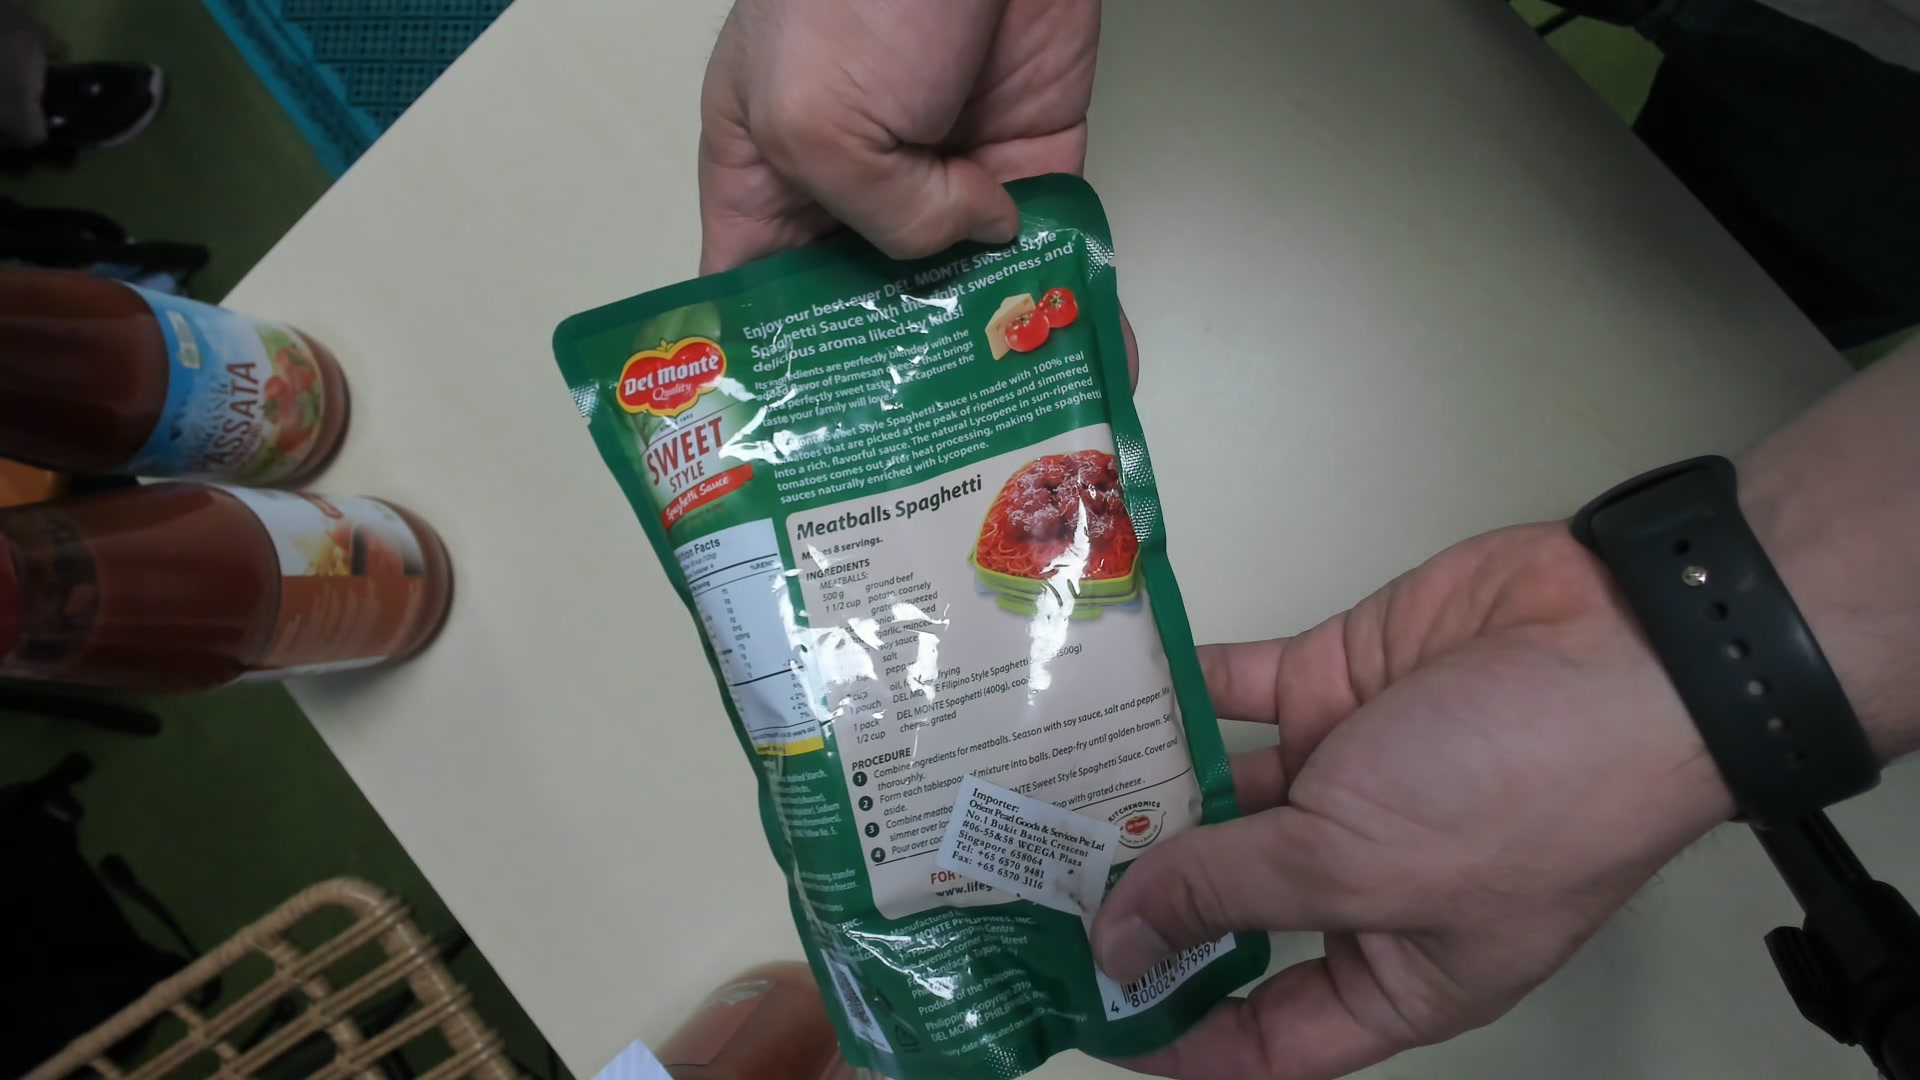PastaSauce_500-599g_Halal_NonHealthy: (564, 204, 1255, 1065)
